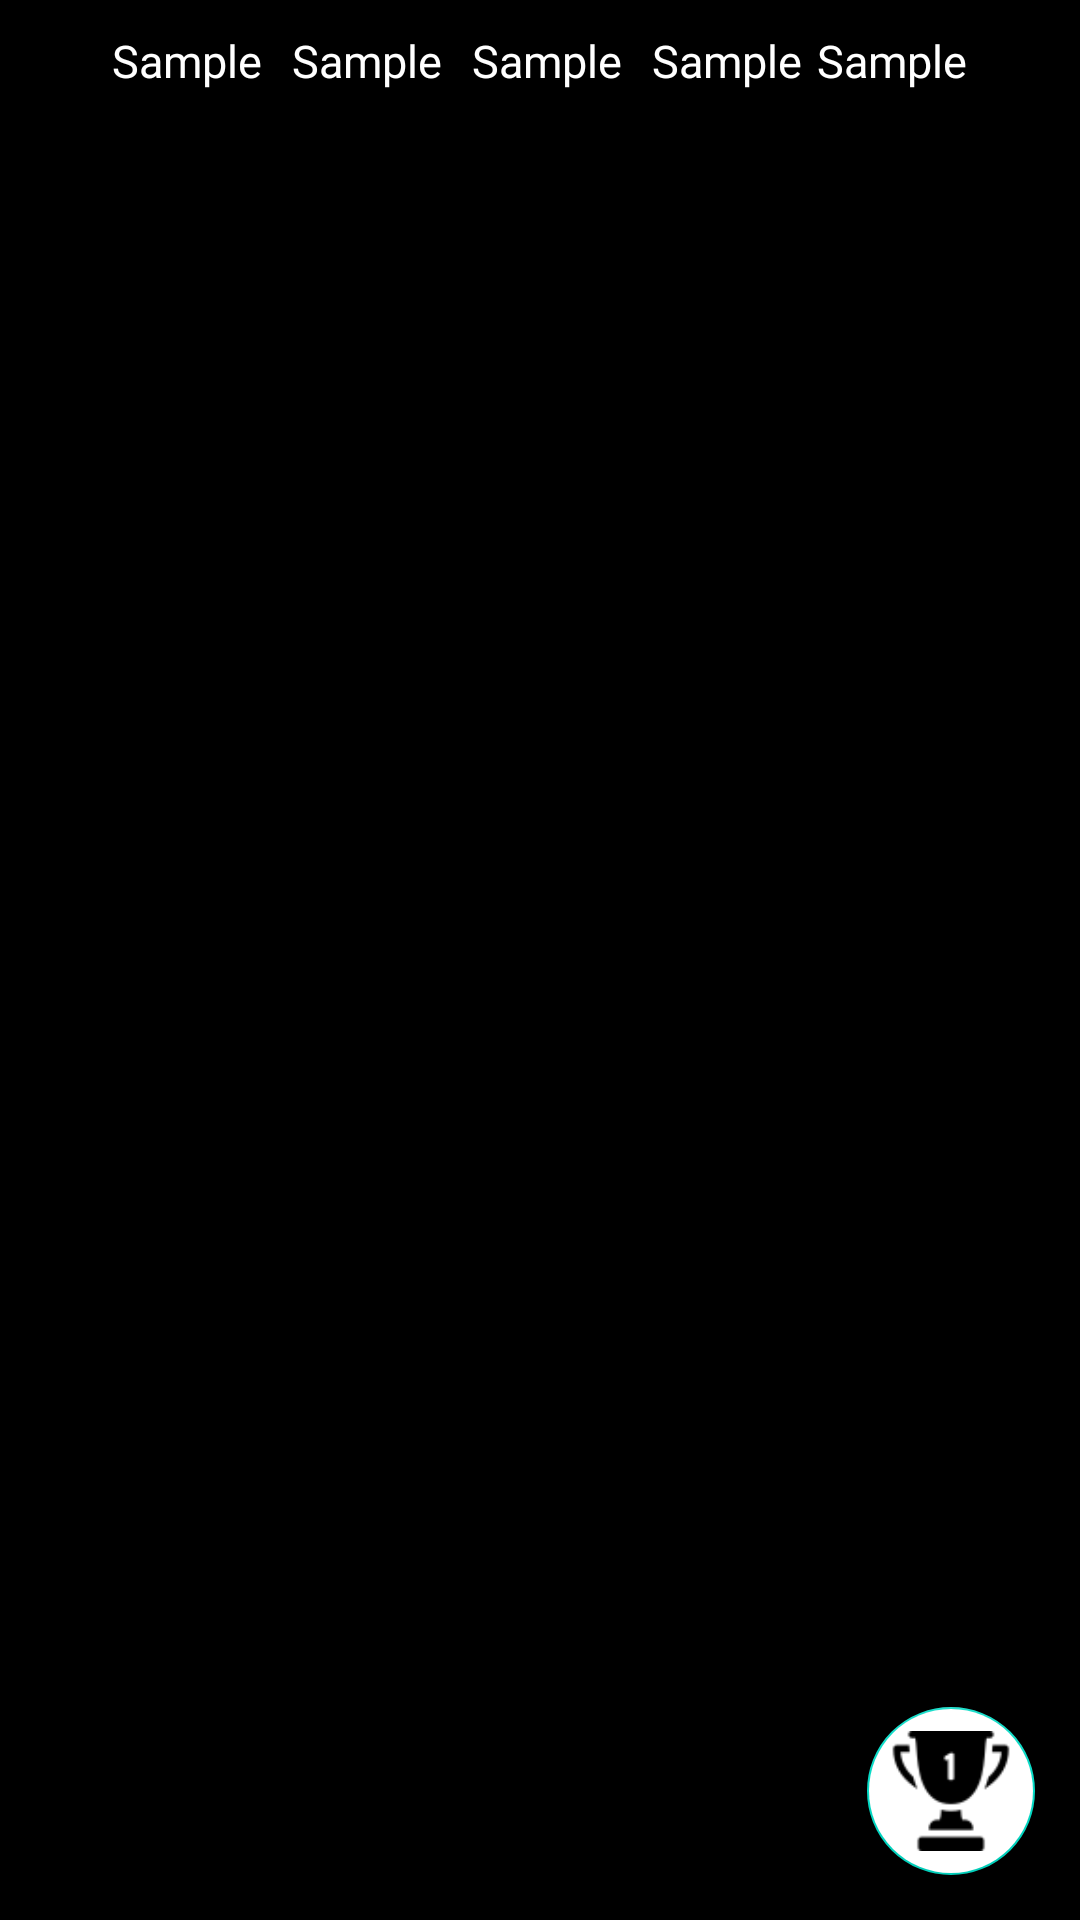

Icon bounding boxes for this 1080 × 1920 phone screenshot, format (x1, y1, x2, y2):
trophy: (867, 1707, 1035, 1875)
